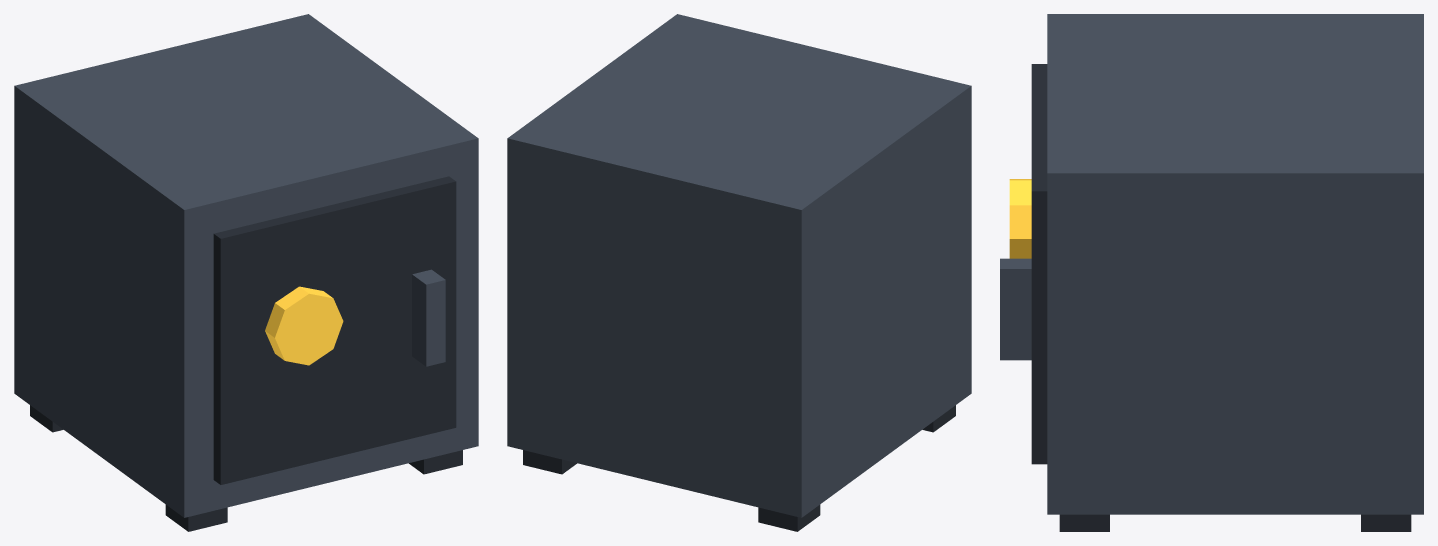
The model's file is safe.glb.
The picture shows the model from 3 angles, left to right: view 1: azimuth 30°, elevation 25°; view 2: azimuth 150°, elevation 25°; view 3: azimuth 270°, elevation 25°; orthographic projection. The views are drawn at different scales.
Visible parts, largest first — view 1: safe_steel, safe_steel_dark, safe_gold; view 2: safe_steel, safe_steel_dark; view 3: safe_steel, safe_steel_dark, safe_gold.
Part boxes in pixels (x1=…): safe_steel: x1=14, y1=14, x2=478, y2=517; safe_steel_dark: x1=30, y1=176, x2=462, y2=531; safe_gold: x1=265, y1=286, x2=343, y2=365; safe_steel: x1=507, y1=14, x2=971, y2=517; safe_steel_dark: x1=523, y1=405, x2=955, y2=531; safe_steel: x1=1000, y1=14, x2=1423, y2=514; safe_steel_dark: x1=1031, y1=64, x2=1411, y2=531; safe_gold: x1=1009, y1=179, x2=1031, y2=258.
Bounding box in the file's own units: 0.6 × 0.64 × 0.675.
